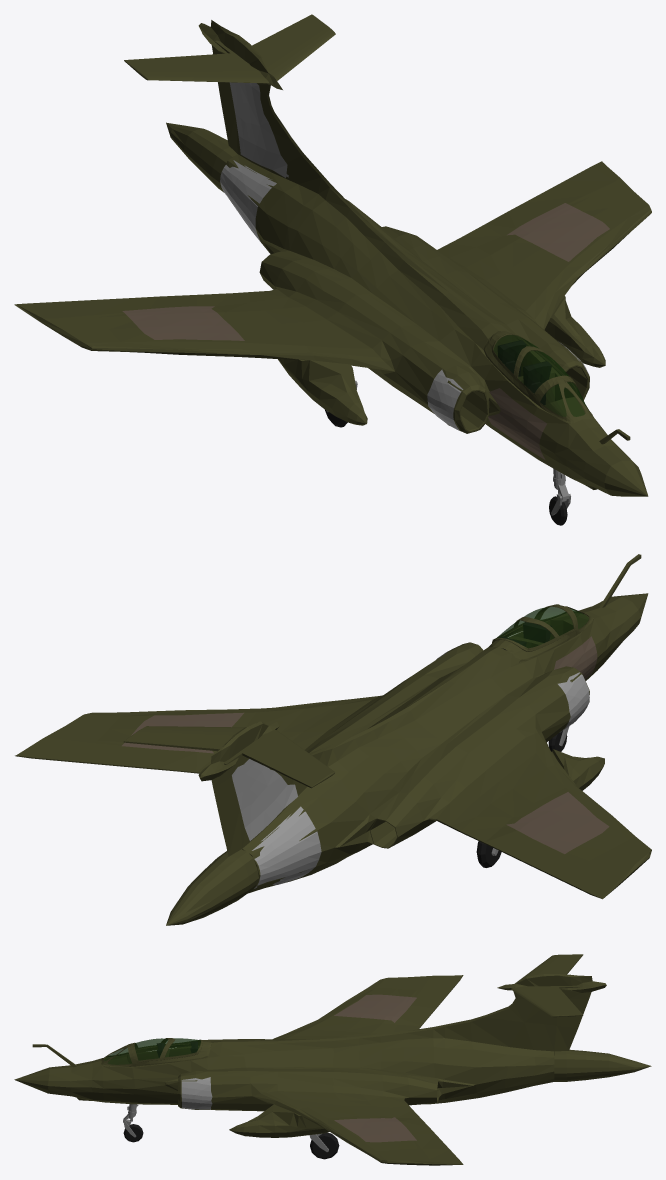
File: avion.obj
3 views of the same model, one above another, from view 1: azimuth 30°, elevation 25°; view 2: azimuth 150°, elevation 25°; view 3: azimuth 270°, elevation 25° (orthographic). The views are drawn at different scales.
Visible parts, largest first — view 1: BUCCALAS, BUCCACCE, BUCCPEST0, BUCCPEST2, BUCCCRIS, BUCCPCOL, BUCCFLAP, BUCCP4261, BUCCPEST, BUCCGOMA, BUCCPDIB; view 2: BUCCALAS, BUCCFLAP, BUCCP4261, BUCCPEST2, BUCCPCOL, BUCCACCE, BUCCCRIS, BUCCPEST0, BUCCGOMA, BUCCPDIB, BUCCPEST; view 3: BUCCALAS, BUCCACCE, BUCCFLAP, BUCCPEST2, BUCCPEST0, BUCCCRIS, BUCCPDIB0, BUCCGOMA, BUCCMPLA.
Boxes of the visible parts, x1,y1,x2,y2 form: BUCCALAS: (14,14,651,496); BUCCACCE: (278,296,605,425); BUCCPEST0: (507,203,609,261); BUCCPEST2: (122,306,244,340); BUCCCRIS: (493,335,586,416); BUCCPCOL: (229,82,287,177); BUCCFLAP: (166,122,237,192); BUCCP4261: (220,160,276,241); BUCCPEST: (488,388,546,459); BUCCGOMA: (324,340,567,525); BUCCPDIB: (427,369,463,431); BUCCALAS: (15,554,651,899); BUCCFLAP: (166,849,258,925); BUCCP4261: (252,806,321,888); BUCCPEST2: (506,792,609,853); BUCCPCOL: (232,759,297,840); BUCCACCE: (488,604,604,790); BUCCCRIS: (496,606,588,648); BUCCPEST0: (122,712,243,753); BUCCGOMA: (476,622,567,867); BUCCPDIB: (558,672,589,732); BUCCPEST: (554,636,597,679); BUCCALAS: (14,954,606,1165); BUCCACCE: (101,1035,329,1137); BUCCFLAP: (554,1049,651,1081); BUCCPEST2: (334,994,416,1022); BUCCPEST0: (334,1117,416,1142); BUCCCRIS: (104,1038,200,1064); BUCCPDIB0: (181,1077,212,1109); BUCCGOMA: (123,1041,339,1159); BUCCMPLA: (123,1104,328,1152).
Size of the model in its own units: 7.01 by 2.89 by 9.94.
